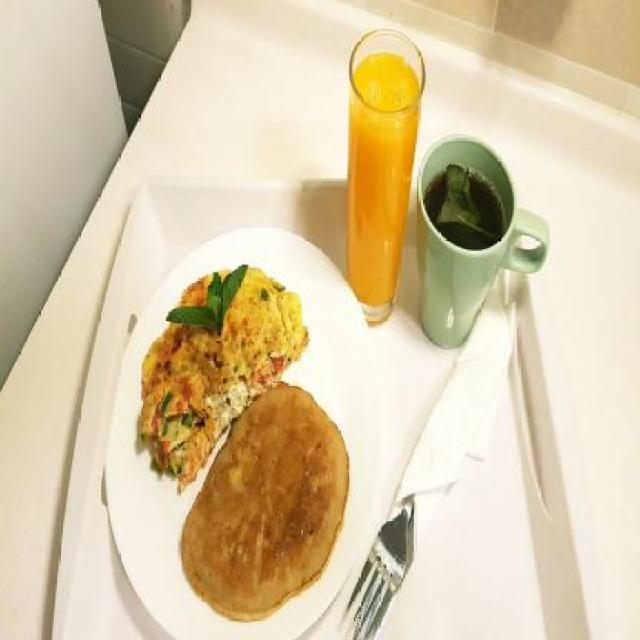omelette: (134, 263, 309, 482)
pancakes: (178, 376, 351, 626)
